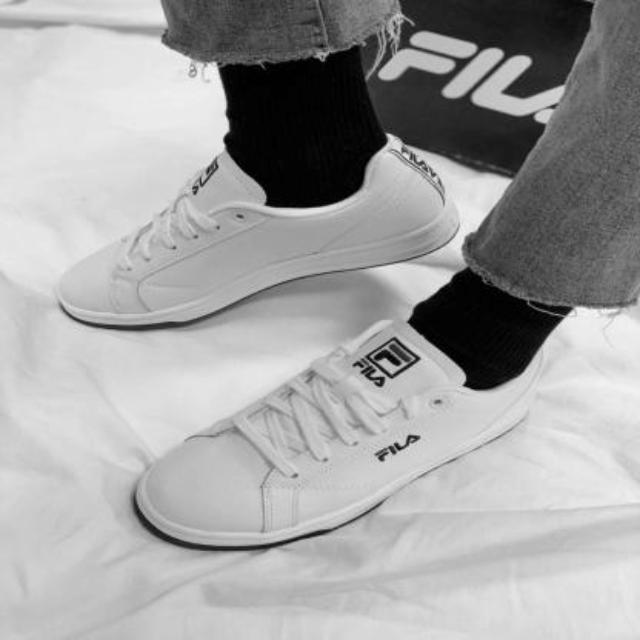FILA_original: (348, 324, 434, 402), (365, 428, 429, 468)
